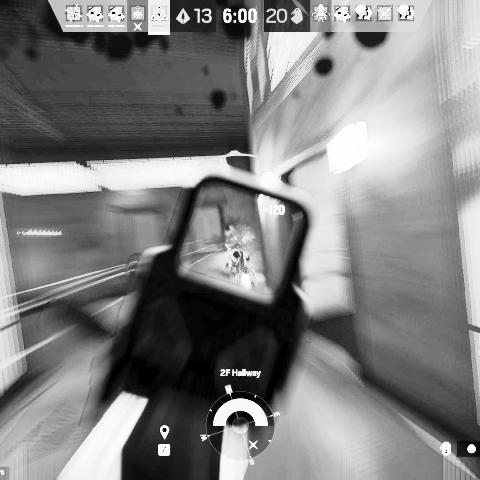Character: (224, 242, 258, 291)
Head: (232, 250, 240, 258)
